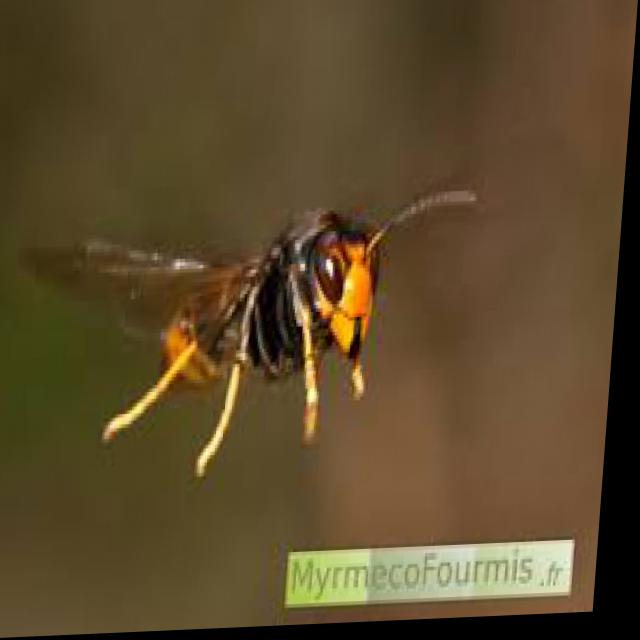Vespa Velutina: (0, 178, 491, 502)
